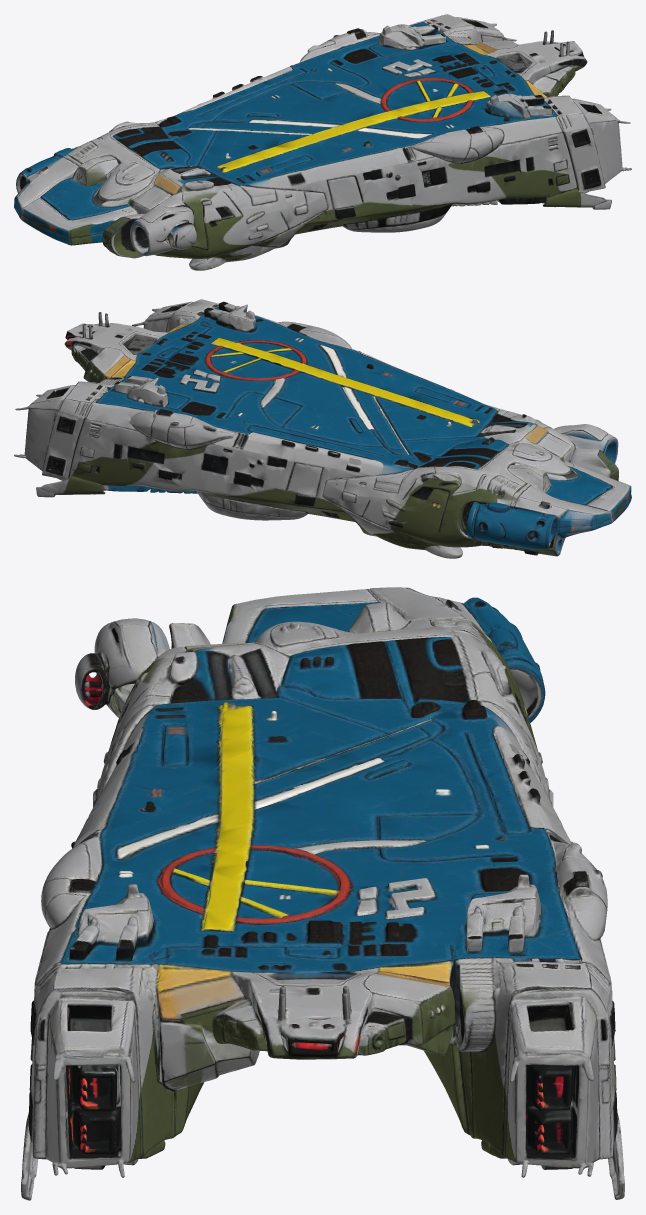
The model's file is carrier.glb.
3 views of the same model, one above another, from view 1: azimuth 30°, elevation 25°; view 2: azimuth 150°, elevation 25°; view 3: azimuth 270°, elevation 25° (orthographic). The views are drawn at different scales.
Bounding box in the file's own units: 1.9 × 0.3844 × 0.9085.
1 material, 1 textured.
